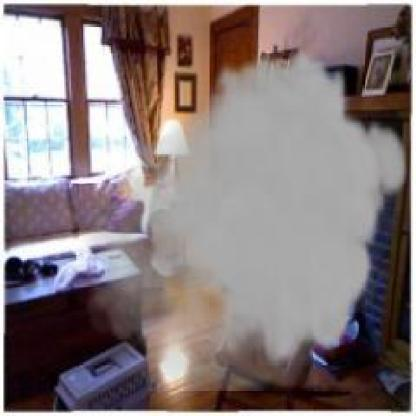Smoke: (76, 47, 411, 390)
